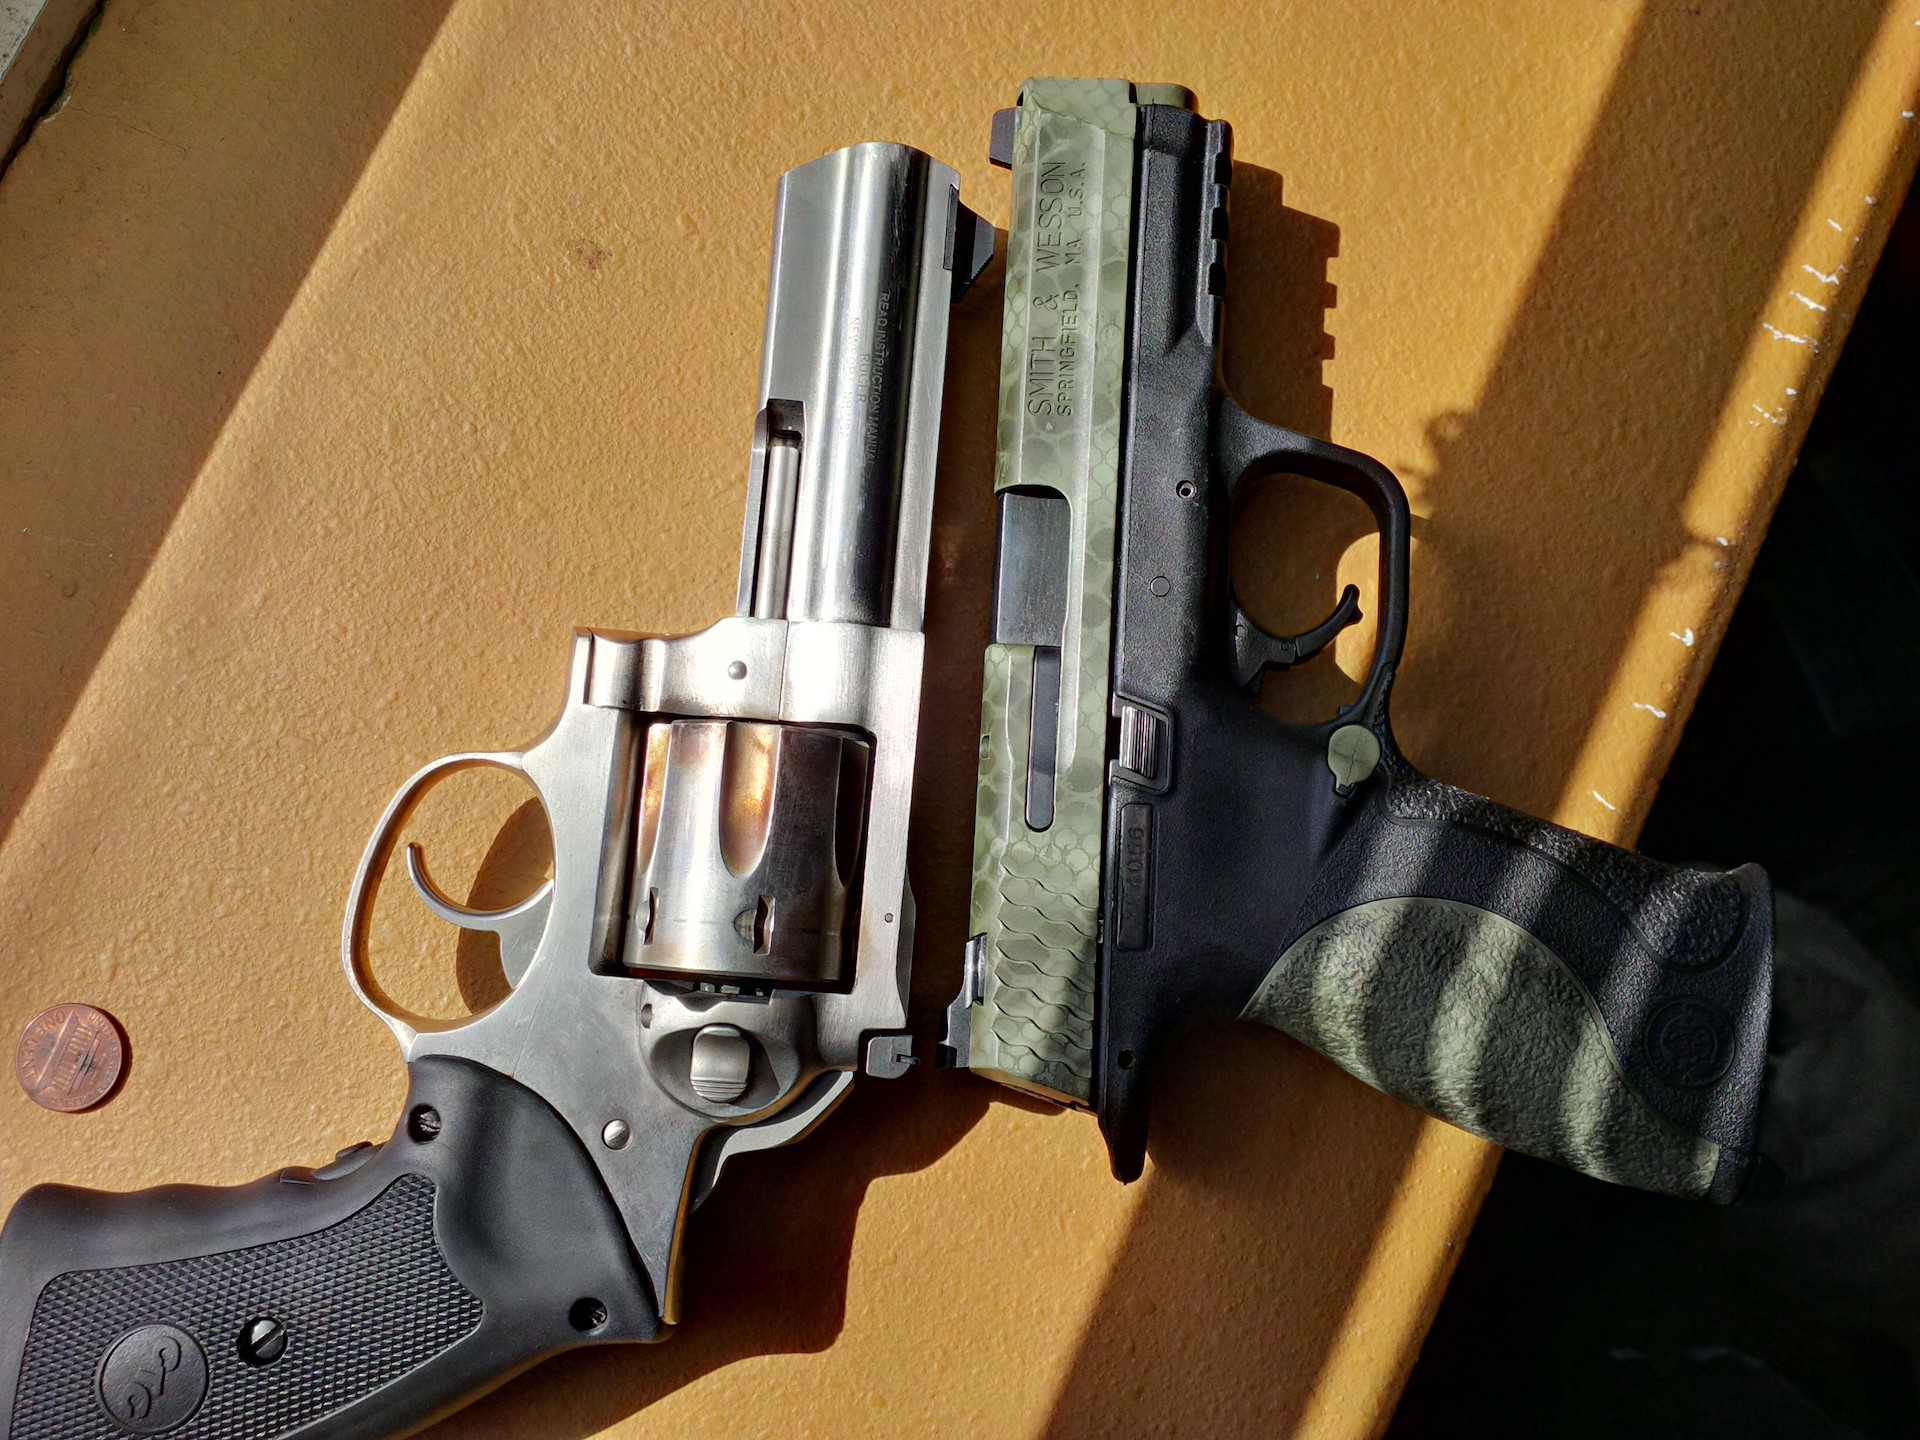pistol: (6, 135, 999, 1440), (943, 73, 1776, 1227)
